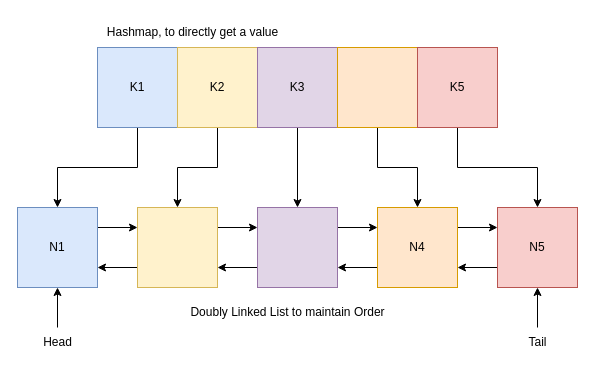
Some shapes in this 595 by 374 pixel diagram are drawn without their labels. The centre of each missing label's shape, as x and y in pixels:
K4: the point at 377,87
N2: the point at 177,247
N3: the point at 297,247
